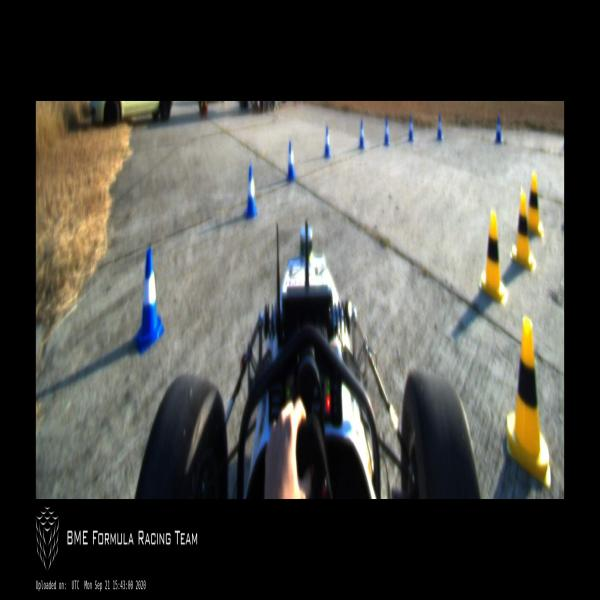blue_cone: (134, 248, 164, 355), (243, 163, 258, 221), (284, 140, 297, 182), (322, 124, 331, 158), (494, 114, 502, 145), (358, 120, 365, 150), (383, 118, 390, 147), (436, 113, 443, 141), (407, 116, 414, 142)
yellow_cone: (506, 316, 551, 490), (479, 210, 506, 305), (510, 190, 536, 272), (527, 170, 544, 238)
